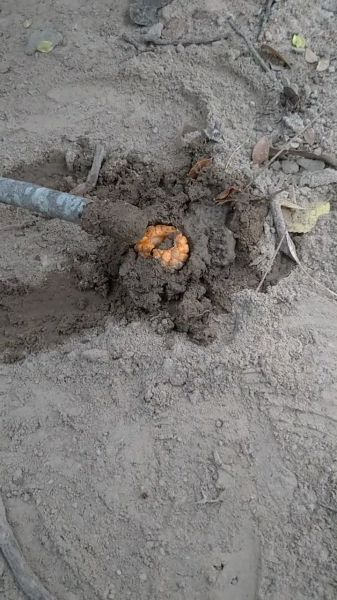eggs: (130, 220, 192, 277)
